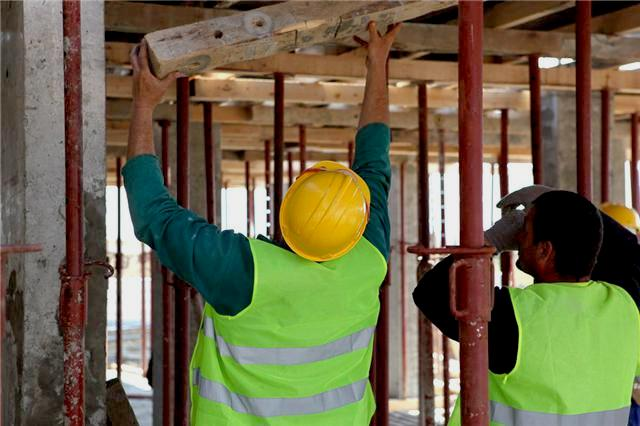no_helmet: (510, 190, 611, 289)
